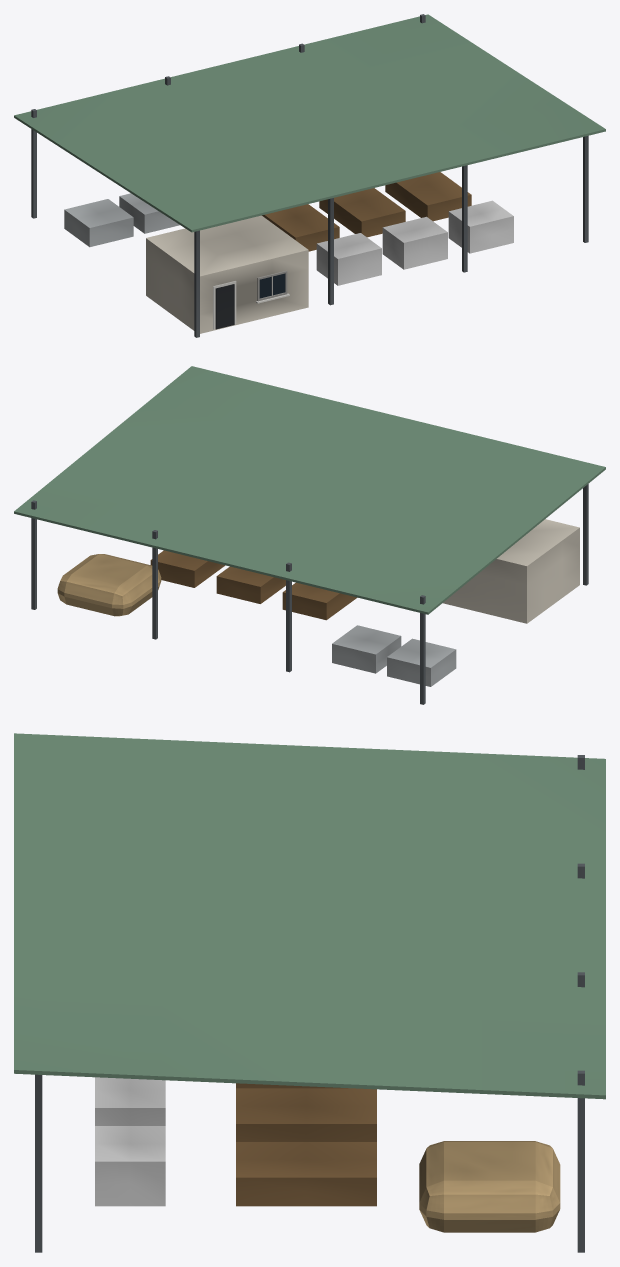
File: corralon-DwZF7cfa.glb
3 views of the same model, one above another, from view 1: azimuth 30°, elevation 25°; view 2: azimuth 150°, elevation 25°; view 3: azimuth 270°, elevation 25° (orthographic). The views are drawn at different scales.
Parts seen in each view (by area): view 1: losa, pieza.008, pieza.011, pieza.014, pieza.012, pieza.013, pieza.015, pieza.009, pieza.010, pieza.016, puerta.001, pieza.004 (+5 smaller); view 2: losa, pieza.008, pieza.017, pieza.016, pieza.015, pieza.012, pieza.010, pieza.014, pieza.003, pieza.005, pieza.007, pieza.001 (+1 smaller); view 3: losa, pieza.017, pieza.014, pieza.012, pieza.013, pieza.011, pieza.006, pieza.007.
Part boxes in pixels (x1,y1,x2,y2): losa: (14,14,605,232); pieza.008: (146,215,308,333); pieza.011: (382,216,447,269); pieza.014: (385,172,471,221); pieza.012: (319,188,405,237); pieza.013: (448,200,513,253); pieza.015: (64,199,133,247); pieza.009: (316,233,381,285); pieza.010: (262,204,339,251); pieza.016: (119,193,179,233); puerta.001: (215,284,234,329); pieza.004: (462,165,467,272); losa: (14,366,605,614); pieza.008: (443,519,579,623); pieza.017: (57,554,161,616); pieza.016: (332,625,401,673); pieza.015: (387,638,456,686); pieza.012: (216,566,285,603); pieza.010: (282,582,356,620); pieza.014: (150,550,225,587); pieza.003: (286,562,291,672); pieza.005: (152,530,157,639); pieza.007: (31,500,36,609); pieza.001: (420,595,425,704); losa: (14,733,605,1099); pieza.017: (419,1141,560,1232); pieza.014: (236,1142,376,1206); pieza.012: (236,1088,376,1141); pieza.013: (95,1126,165,1206); pieza.011: (95,1077,165,1125); pieza.006: (35,1074,42,1252); pieza.007: (577,1070,584,1252).
Bounding box in the file's own units: 22.6 × 6 × 16.8.
